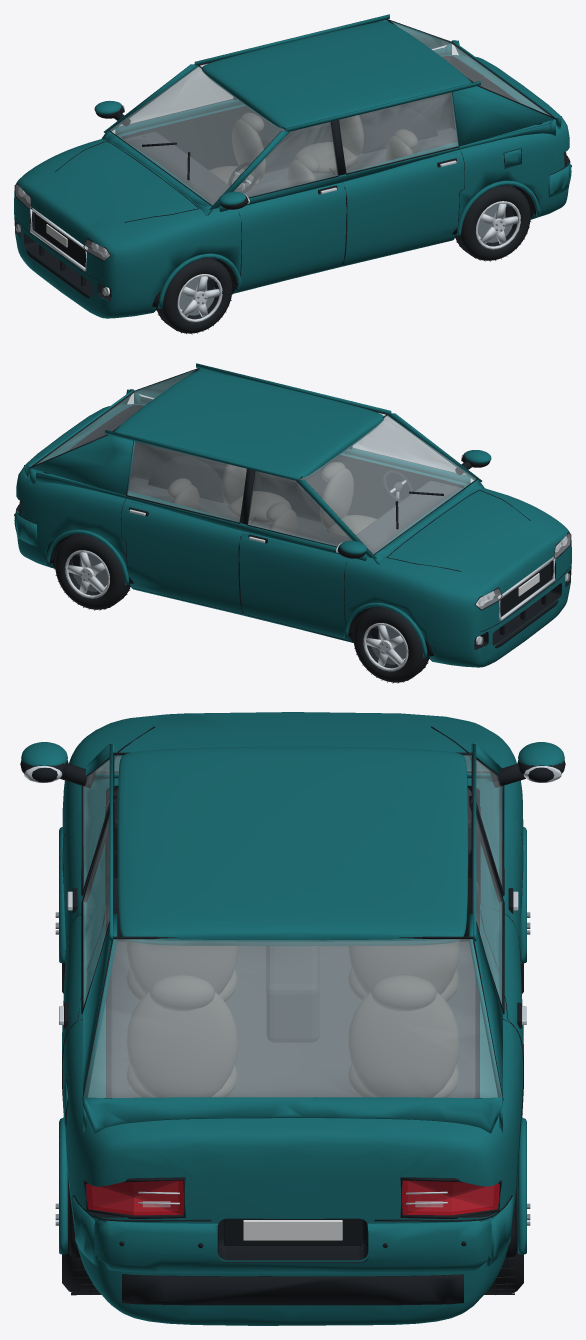
Rendered from hatchback.glb.
The picture shows the model from 3 angles, top to bottom: view 1: azimuth 30°, elevation 25°; view 2: azimuth 150°, elevation 25°; view 3: azimuth 270°, elevation 25°; orthographic projection. The views are drawn at different scales.
Visible parts, largest first — view 1: Original electric_hatchback fourteen-section body shell, Aerodynamic mirror painted cap, Front door transparent glass, Aerodynamic mirror lower housing, Continuous circumferential tread rib, Contoured seat back, Center console, Cast swept alloy spoke, Deep wheel barrel inner lip, Clear reversing lens insert; view 2: Original electric_hatchback fourteen-section body shell, Aerodynamic mirror painted cap, Front door transparent glass, Aerodynamic mirror lower housing, Continuous circumferential tread rib, Contoured seat back, Center console, Cast swept alloy spoke, Deep wheel barrel inner lip, Clear reversing lens insert; view 3: Aerodynamic mirror painted cap, Original electric_hatchback fourteen-section body shell, Front door transparent glass, Contoured seat back, Aerodynamic mirror lower housing, Center console, Flush corner wrapping ruby lamp lens, Continuous circumferential tread rib, Front license plate, Cast swept alloy spoke.
Part boxes in pixels (<box>): Original electric_hatchback fourteen-section body shell: <box>14,55,569,318</box>; Aerodynamic mirror painted cap: <box>94,14,571,308</box>; Front door transparent glass: <box>110,21,550,205</box>; Aerodynamic mirror lower housing: <box>14,19,571,310</box>; Continuous circumferential tread rib: <box>156,185,531,334</box>; Contoured seat back: <box>209,112,417,188</box>; Center console: <box>124,128,457,204</box>; Cast swept alloy spoke: <box>17,101,520,322</box>; Deep wheel barrel inner lip: <box>179,204,513,315</box>; Clear reversing lens insert: <box>15,184,109,295</box>; Original electric_hatchback fourteen-section body shell: <box>16,404,571,667</box>; Aerodynamic mirror painted cap: <box>14,363,491,657</box>; Front door transparent glass: <box>35,370,475,554</box>; Aerodynamic mirror lower housing: <box>14,368,571,659</box>; Continuous circumferential tread rib: <box>54,534,429,683</box>; Contoured seat back: <box>168,462,376,537</box>; Center console: <box>128,477,461,553</box>; Cast swept alloy spoke: <box>65,451,568,671</box>; Deep wheel barrel inner lip: <box>72,553,406,664</box>; Clear reversing lens insert: <box>476,533,570,644</box>; Aerodynamic mirror painted cap: <box>21,742,564,1273</box>; Original electric_hatchback fourteen-section body shell: <box>62,712,523,1325</box>; Front door transparent glass: <box>83,755,502,1097</box>; Contoured seat back: <box>126,941,459,1097</box>; Aerodynamic mirror lower housing: <box>20,726,565,1305</box>; Center console: <box>110,788,475,1097</box>; Flush corner wrapping ruby lamp lens: <box>86,1180,499,1215</box>; Continuous circumferential tread rib: <box>62,963,523,1295</box>; Front license plate: <box>243,1220,342,1240</box>; Cast swept alloy spoke: <box>24,766,561,1204</box>.
Bounding box in the file's own units: 4.29 × 1.53 × 2.14.
